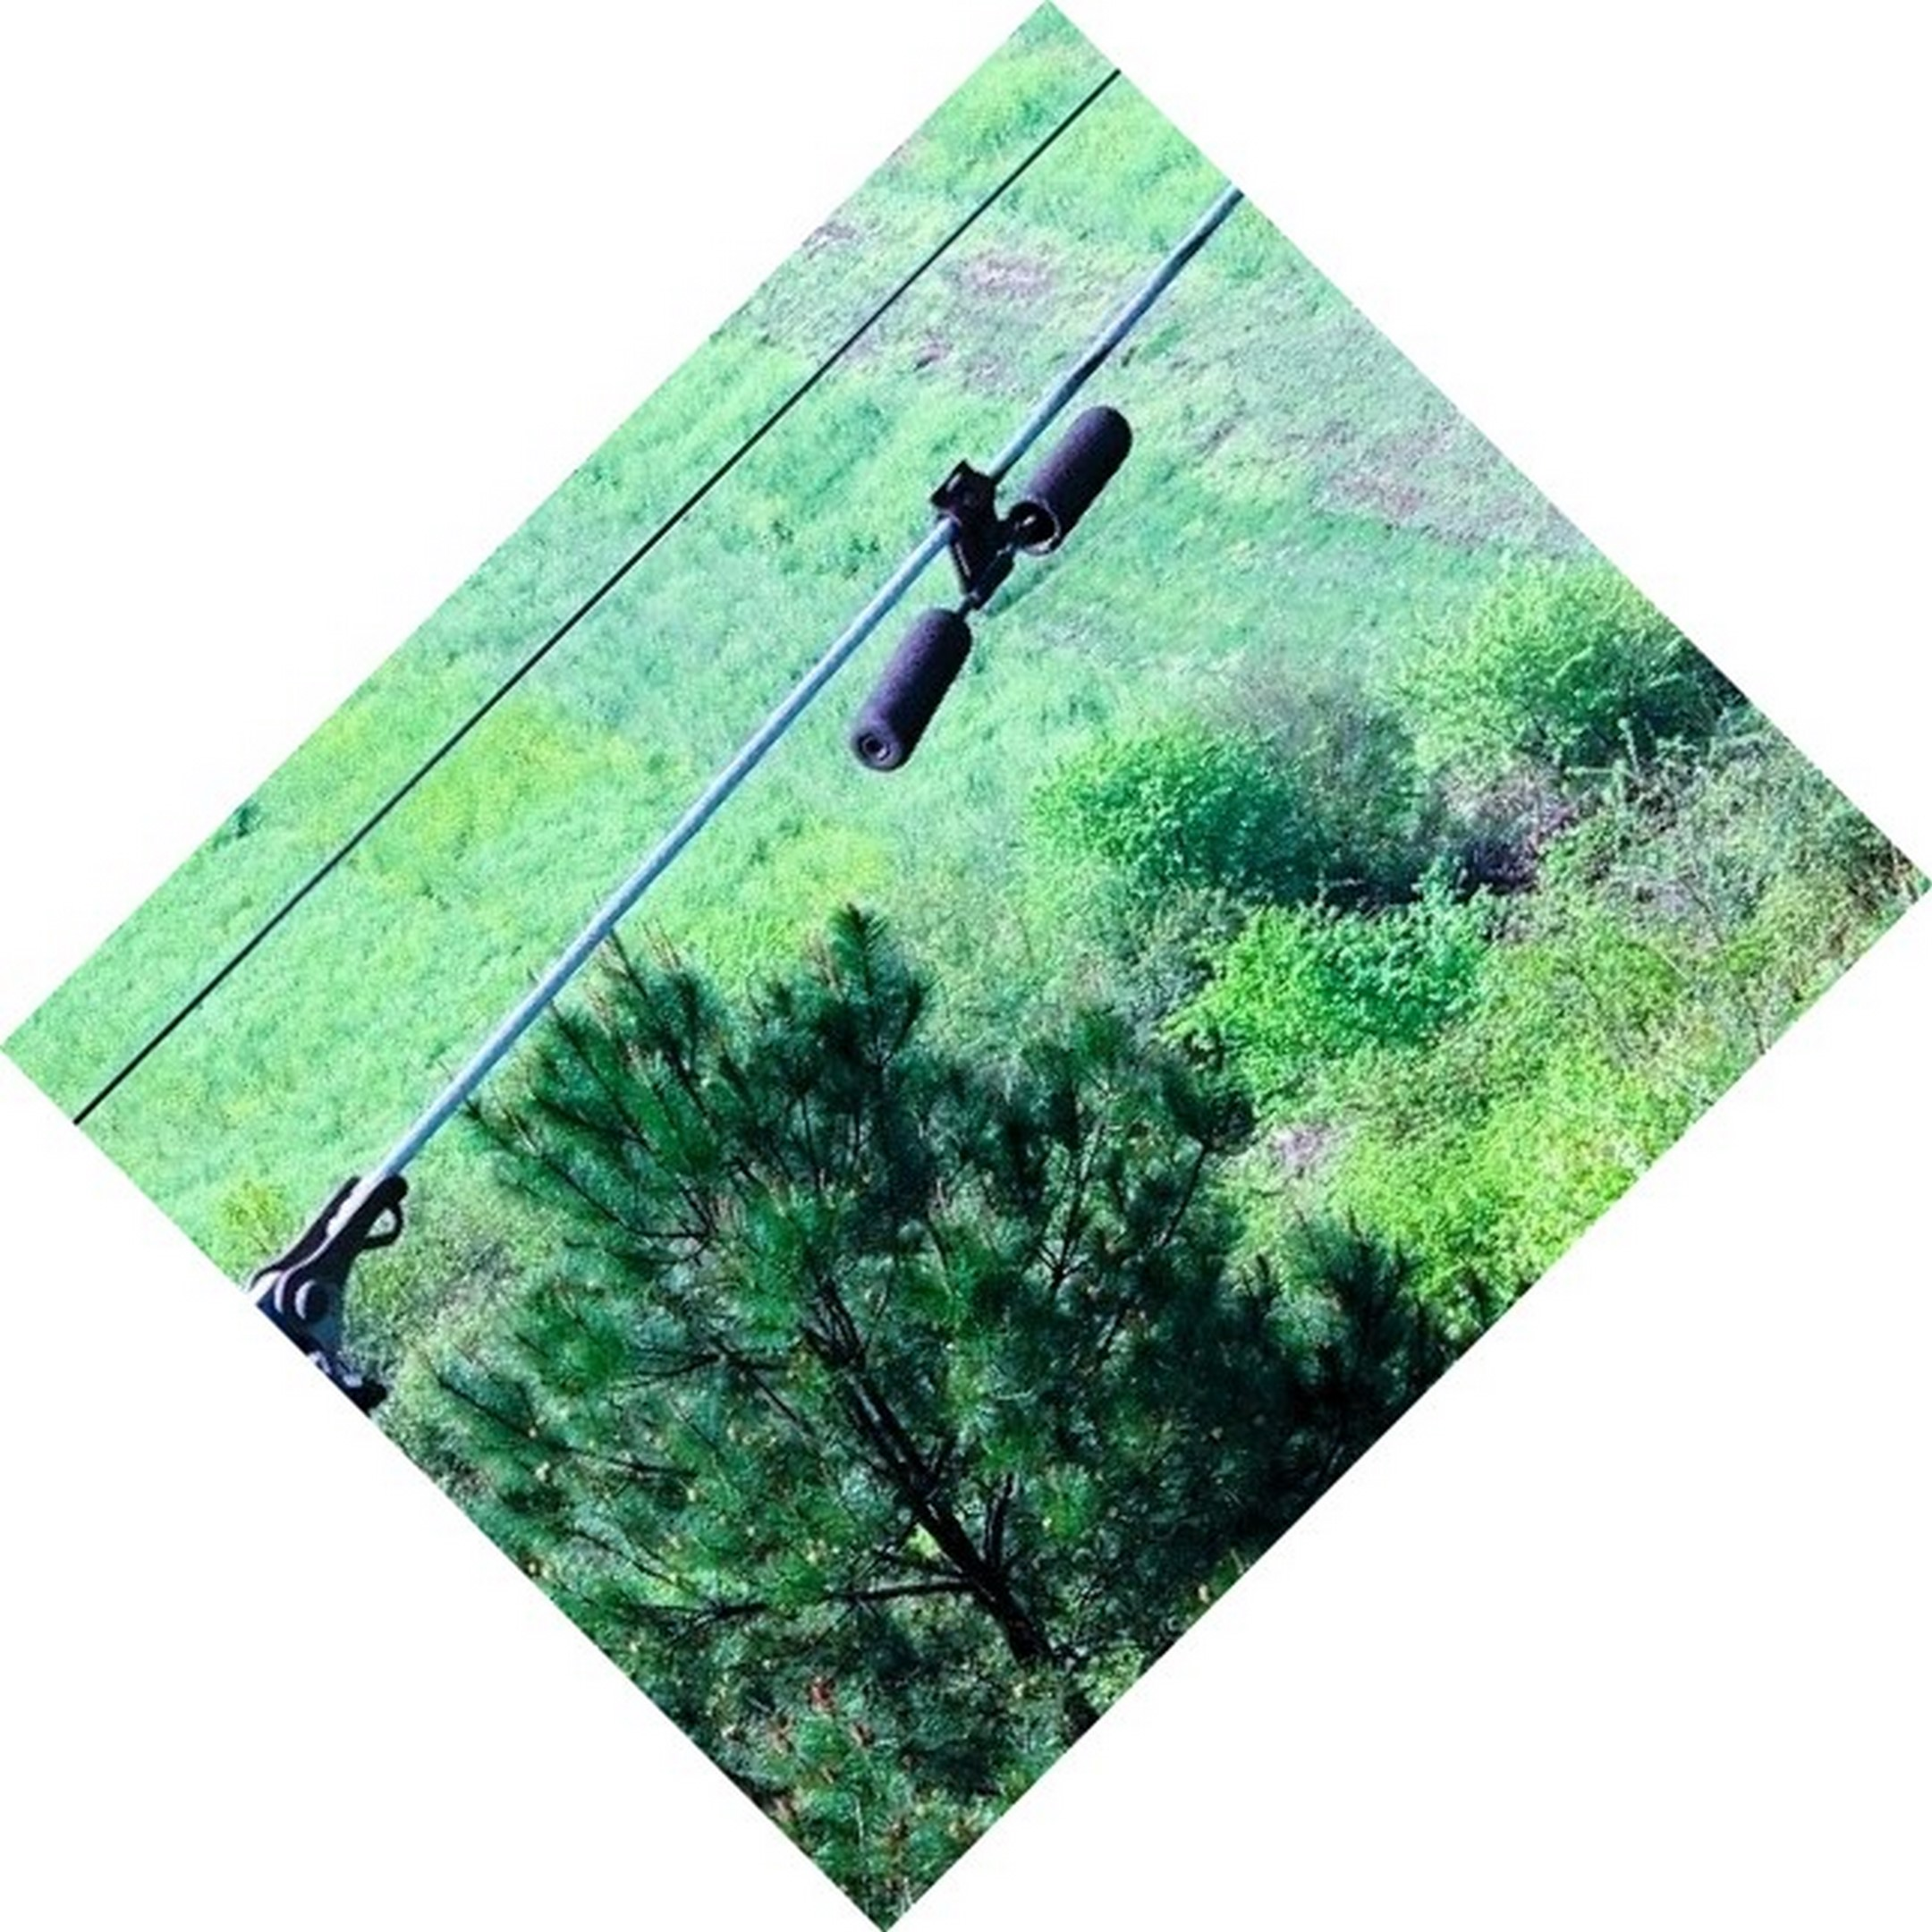Shockproof hammer: (821, 368, 1159, 787)
